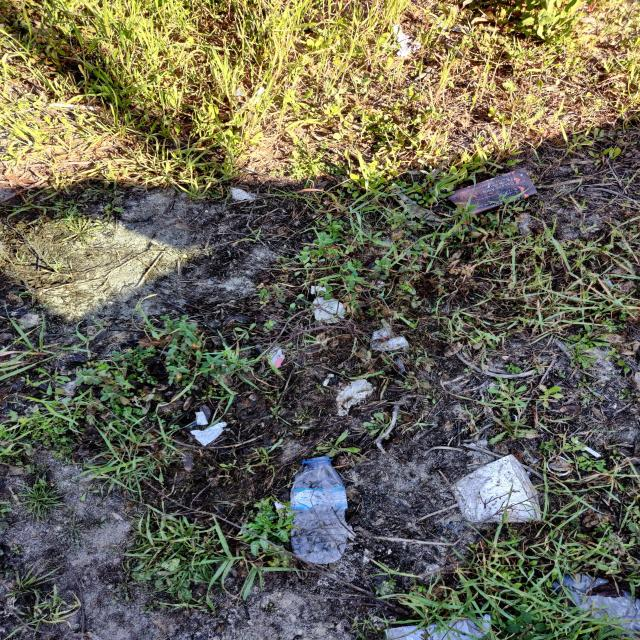litter: (288, 452, 345, 565), (447, 163, 540, 220), (365, 322, 411, 353)
